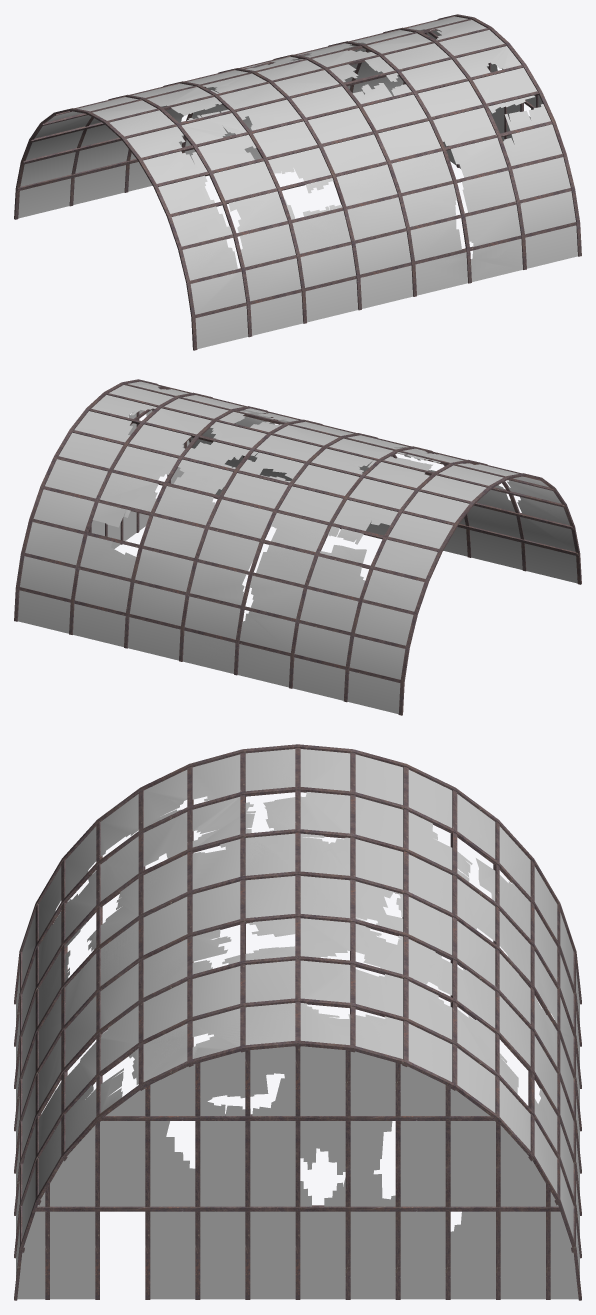
Rendered from Hangar1.fbx.
3 renders of one model, top to bottom at view 1: azimuth 30°, elevation 25°; view 2: azimuth 150°, elevation 25°; view 3: azimuth 270°, elevation 25°, orthographic. The views are drawn at different scales.
Visible parts, largest first — view 1: polySurface75; view 2: polySurface75; view 3: polySurface75.
Part boxes in pixels (x1,y1,x2,y2): polySurface75: (14,14,581,350); polySurface75: (14,379,581,715); polySurface75: (14,744,581,1300).
Bounding box in the file's own units: 14.13 × 5.68 × 11.34.
